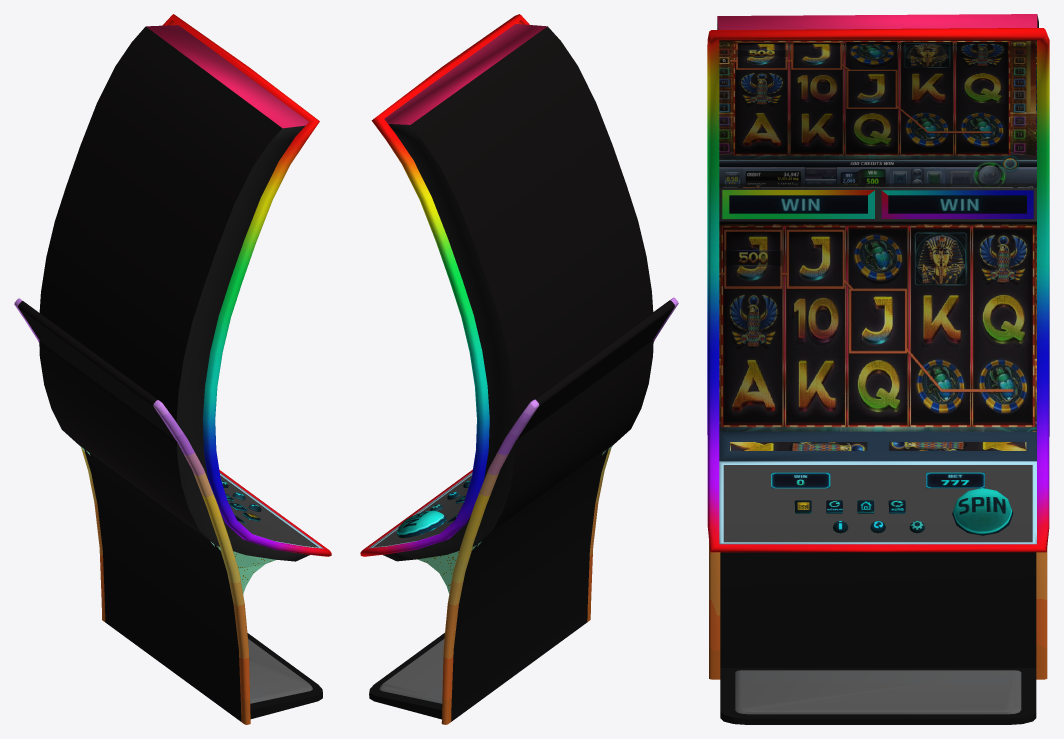
Rendered from SlotMachine_02.fbx.
3 renders of one model, left to right at view 1: azimuth 30°, elevation 25°; view 2: azimuth 150°, elevation 25°; view 3: azimuth 270°, elevation 25°, orthographic. The views are drawn at different scales.
Parts seen in each view (by area): view 1: SlotMachine, UVHighlight; view 2: SlotMachine, UVHighlight; view 3: SlotMachine, UVHighlight.
Part boxes in pixels (left/top/right/bottom): SlotMachine: left=14, top=25, right=323, bottom=724; UVHighlight: left=162, top=14, right=331, bottom=556; SlotMachine: left=369, top=24, right=678, bottom=724; UVHighlight: left=360, top=14, right=529, bottom=556; SlotMachine: left=709, top=14, right=1047, bottom=724; UVHighlight: left=707, top=28, right=1049, bottom=552.
Size of the model in its own units: 94.49 by 299 by 135.
